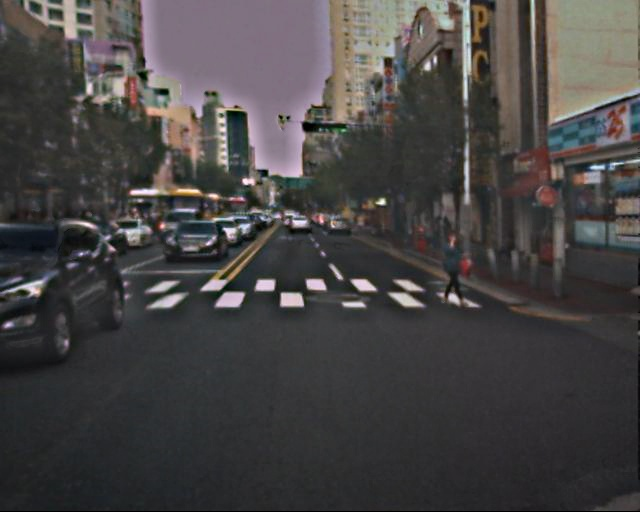person: (435, 232, 466, 308), (416, 221, 456, 249)
